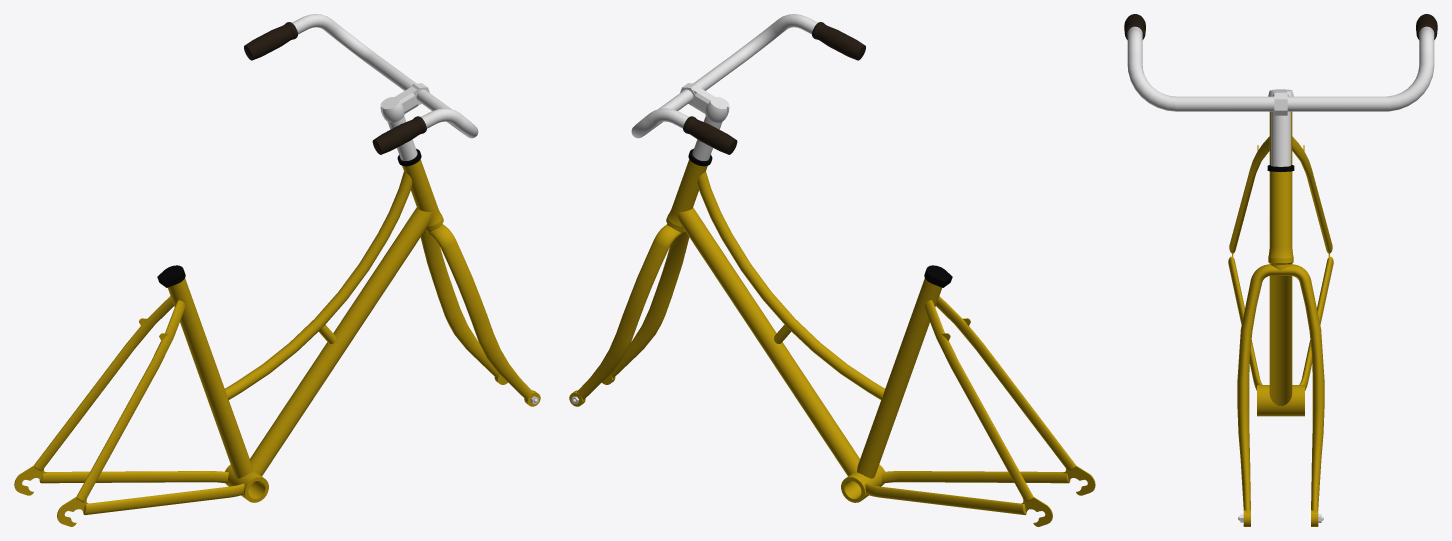
Rendered from frameGelb.glb.
3 views of the same model, side by side, from view 1: azimuth 30°, elevation 25°; view 2: azimuth 150°, elevation 25°; view 3: azimuth 270°, elevation 25° (orthographic). The views are drawn at different scales.
Parts seen in each view (by area): view 1: Bike03\Rahmen, Bike03\Lenkgabel; view 2: Bike03\Rahmen, Bike03\Lenkgabel; view 3: Bike03\Lenkgabel, Bike03\Rahmen.
Part boxes in pixels (left/top/right/bottom): Bike03\Rahmen: left=14, top=148, right=443, bottom=526; Bike03\Lenkgabel: left=244, top=14, right=540, bottom=406; Bike03\Rahmen: left=666, top=148, right=1095, bottom=526; Bike03\Lenkgabel: left=569, top=14, right=865, bottom=406; Bike03\Lenkgabel: left=1124, top=14, right=1437, bottom=526; Bike03\Rahmen: left=1228, top=111, right=1333, bottom=416.
Bounding box in the file's own units: 1.14 × 0.8928 × 0.5583.
